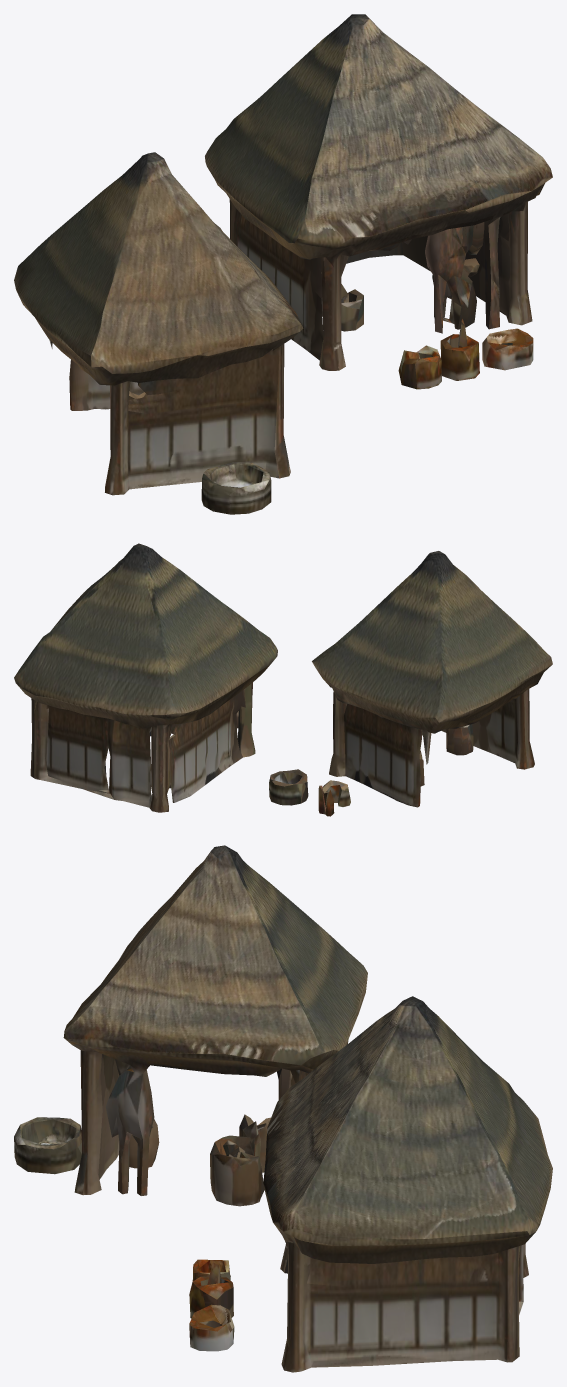
The model's file is guaranies_mercado.glb.
The picture shows the model from 3 angles, top to bottom: view 1: azimuth 30°, elevation 25°; view 2: azimuth 150°, elevation 25°; view 3: azimuth 270°, elevation 25°; orthographic projection. The views are drawn at different scales.
Visible parts, largest first — view 1: geometry_0; view 2: geometry_0; view 3: geometry_0.
Boxes of the visible parts, box(x1,y1,x2,y2) form: geometry_0: box(14, 14, 552, 514); geometry_0: box(14, 543, 552, 816); geometry_0: box(14, 845, 552, 1372).
Bounding box in the file's own units: 3.4 × 1.75 × 2.73.
Materials: 1 (1 with a texture image).
